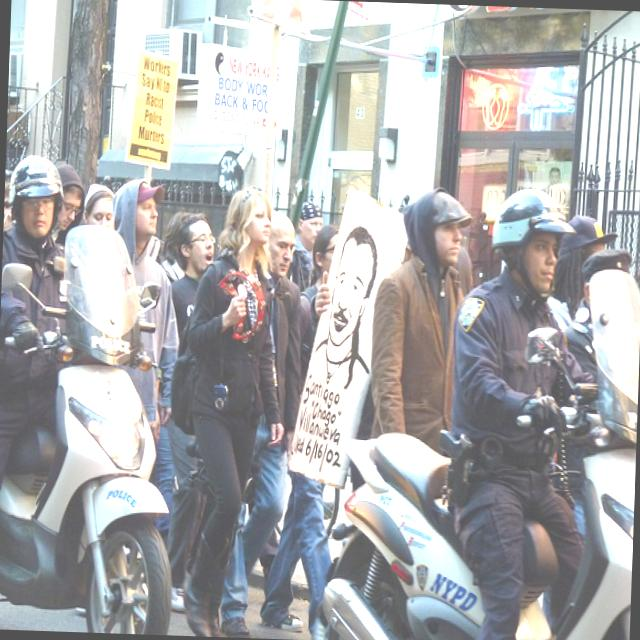Vehicle: (321, 249, 640, 640), (0, 213, 186, 635)
